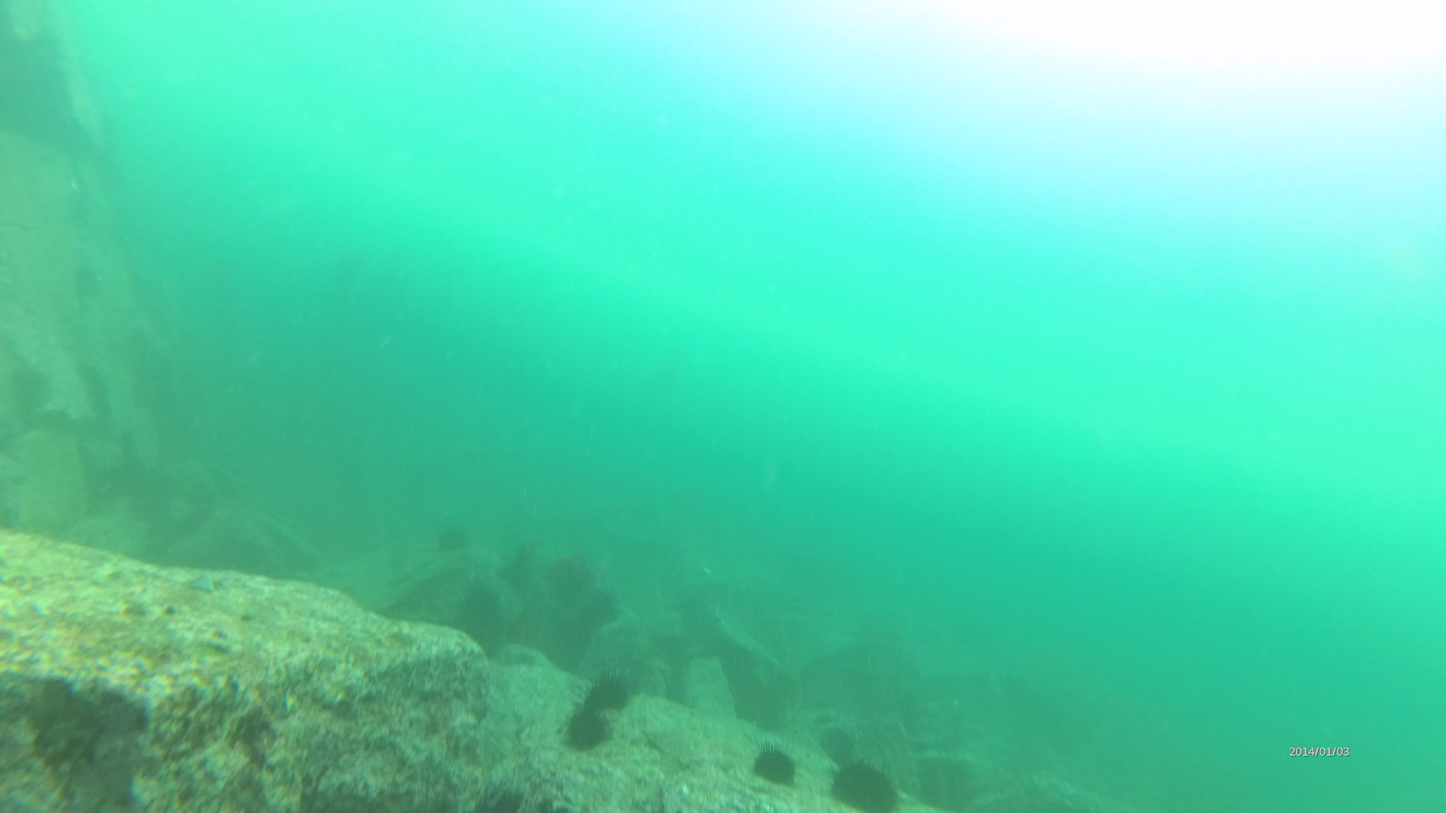starfish: (825, 748, 900, 813), (577, 672, 638, 720), (752, 734, 797, 794), (559, 703, 611, 749)
